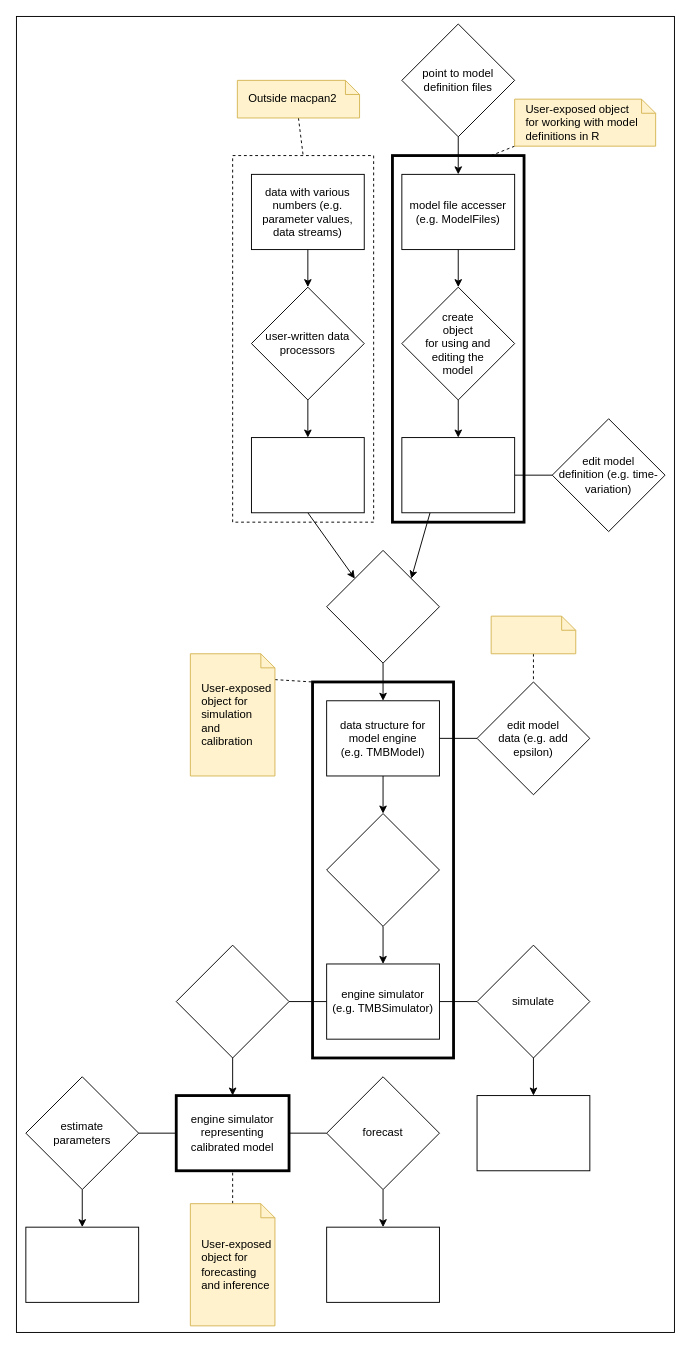
The diagram is 691 pixels wide and 1349 high, and some of its shapes have lost their labels. The box of each missing label's shape, as (x1, y1, x2, y2) in pixels:
Advanced: (490, 615, 576, 654)
calibrate: (175, 944, 289, 1058)
data frame of simulated data: (476, 1095, 590, 1171)
data frame with estimates: (25, 1226, 139, 1302)
data frame with forecasts: (326, 1226, 439, 1302)
list of initial model matrices: (251, 437, 364, 513)
make simulator: (326, 813, 439, 926)
model definition representer (e.g. Model): (401, 437, 515, 513)
numerically instantiate model: (326, 549, 439, 663)
